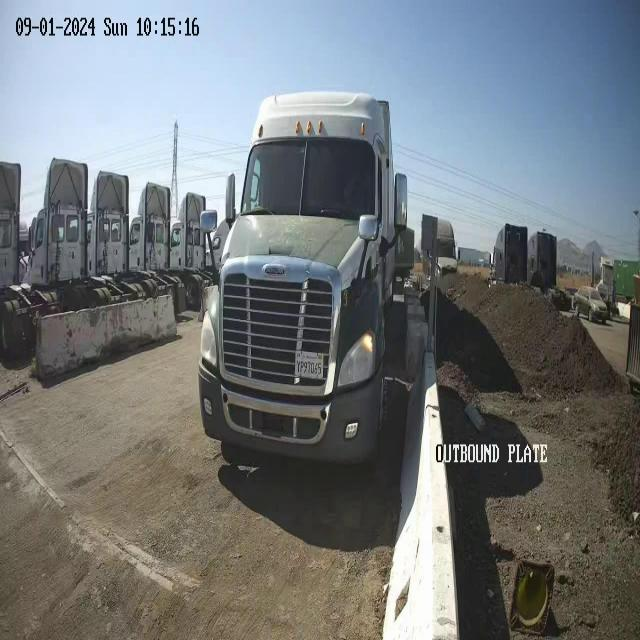TRUCK_OUT: (197, 90, 421, 472)
